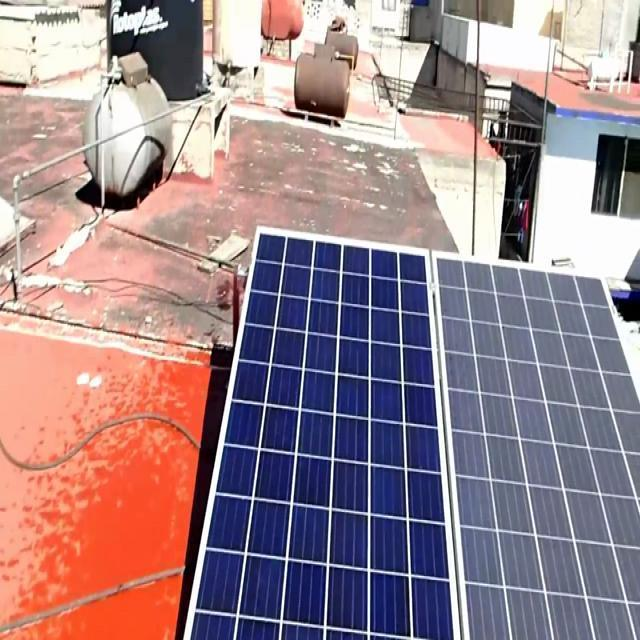Normal Solar Panel: (193, 235, 453, 637)
